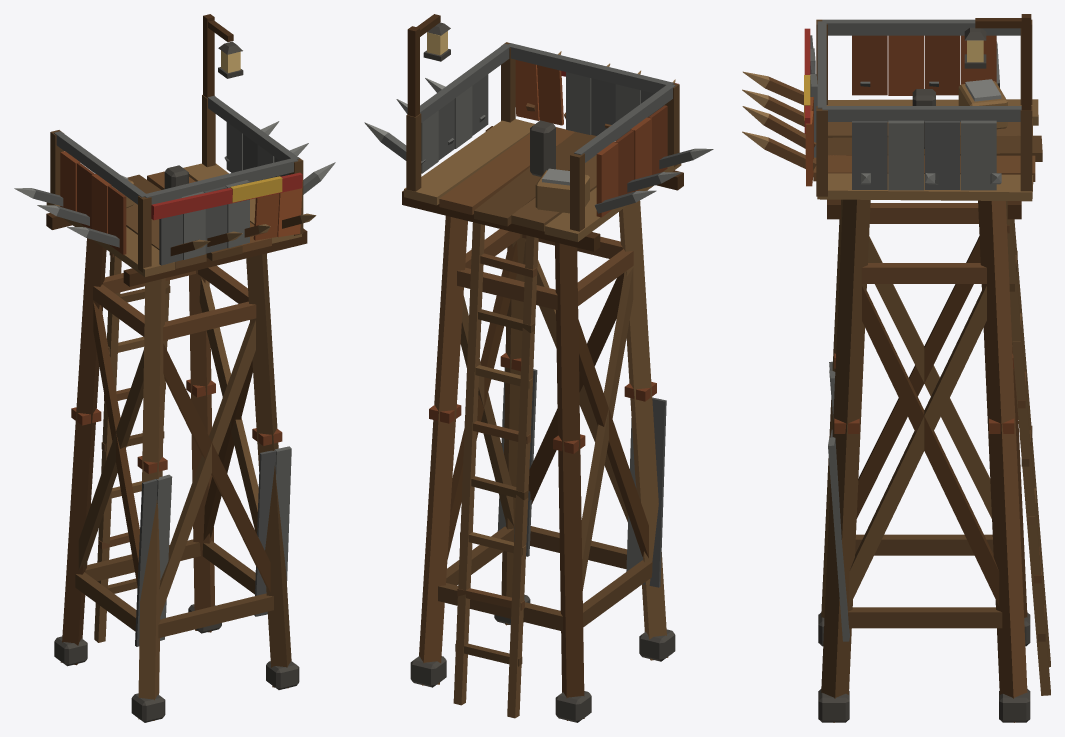
The model's file is torre_4.glb.
3 views of the same model, side by side, from view 1: azimuth 30°, elevation 25°; view 2: azimuth 150°, elevation 25°; view 3: azimuth 270°, elevation 25° (orthographic). The views are drawn at different scales.
Visible parts, largest first — view 1: torre_4.001; view 2: torre_4.001; view 3: torre_4.001.
Boxes of the visible parts, x1,y1,x2,y2 form: torre_4.001: (14, 14, 335, 722); torre_4.001: (364, 14, 713, 722); torre_4.001: (742, 14, 1050, 722).
Size of the model in its own units: 1.84 by 3.97 by 1.57.
